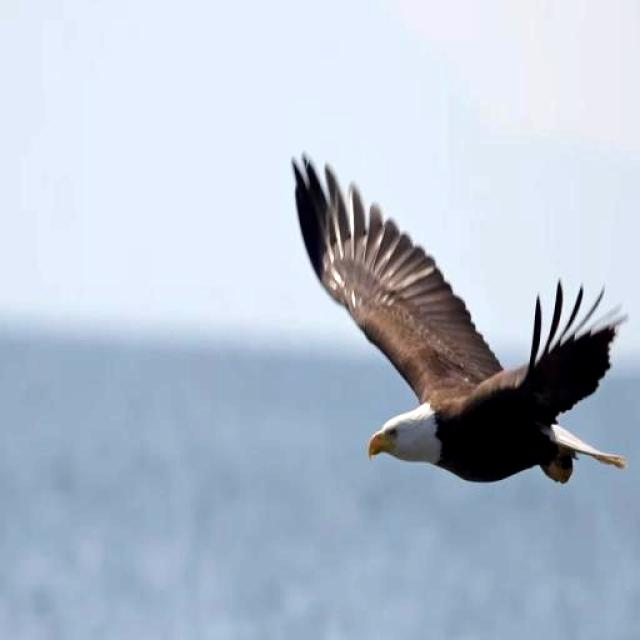airplane: (279, 128, 640, 516)
